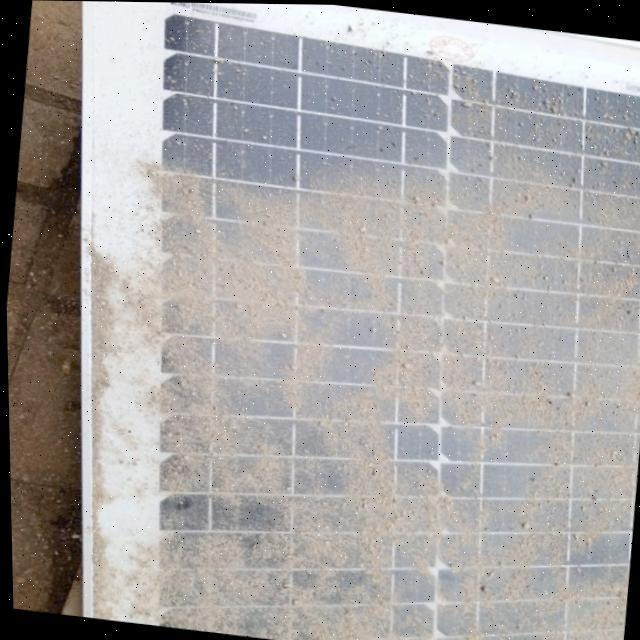Surface Contaminant: (119, 14, 640, 640)
